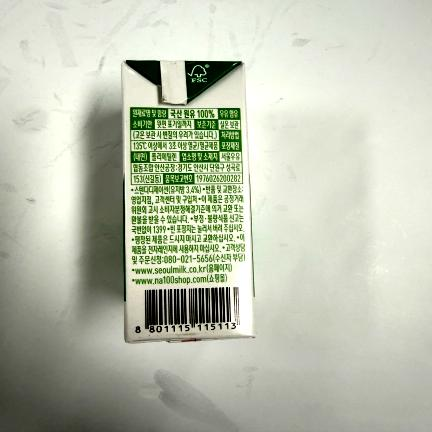milk_green: (124, 61, 256, 344)
